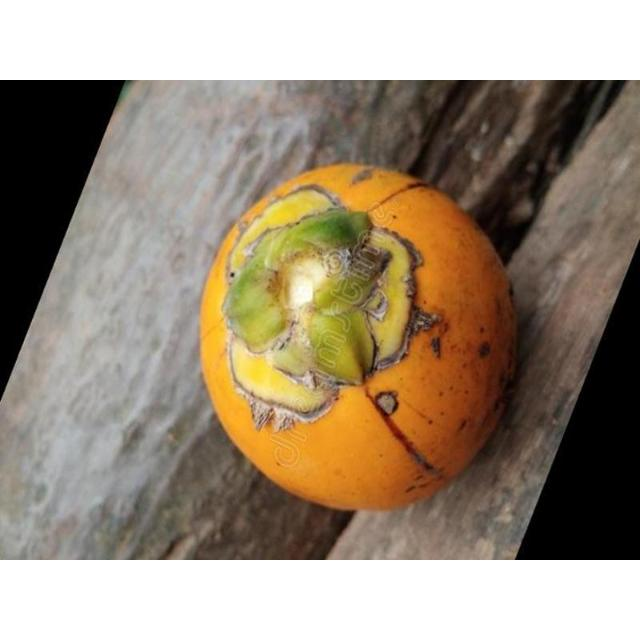good: (202, 170, 516, 512)
